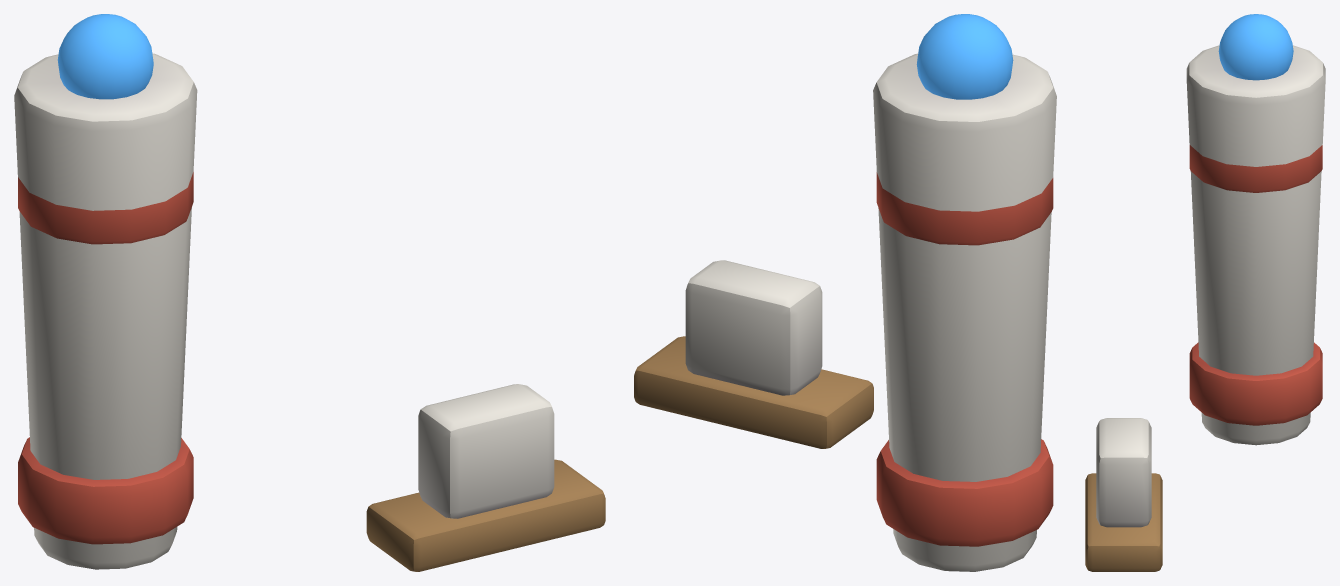
The picture shows the model from 3 angles, left to right: view 1: azimuth 30°, elevation 25°; view 2: azimuth 150°, elevation 25°; view 3: azimuth 270°, elevation 25°; orthographic projection. The views are drawn at different scales.
Parts seen in each view (by area): view 1: landmark_d078405e; view 2: landmark_d078405e; view 3: landmark_d078405e.
Part boxes in pixels (box(x1,y1,x2,y2)): landmark_d078405e: box(14, 14, 605, 571); landmark_d078405e: box(634, 14, 1056, 571); landmark_d078405e: box(1085, 14, 1325, 571).
Size of the model in its own units: 3.85 by 4.09 by 2.18.
